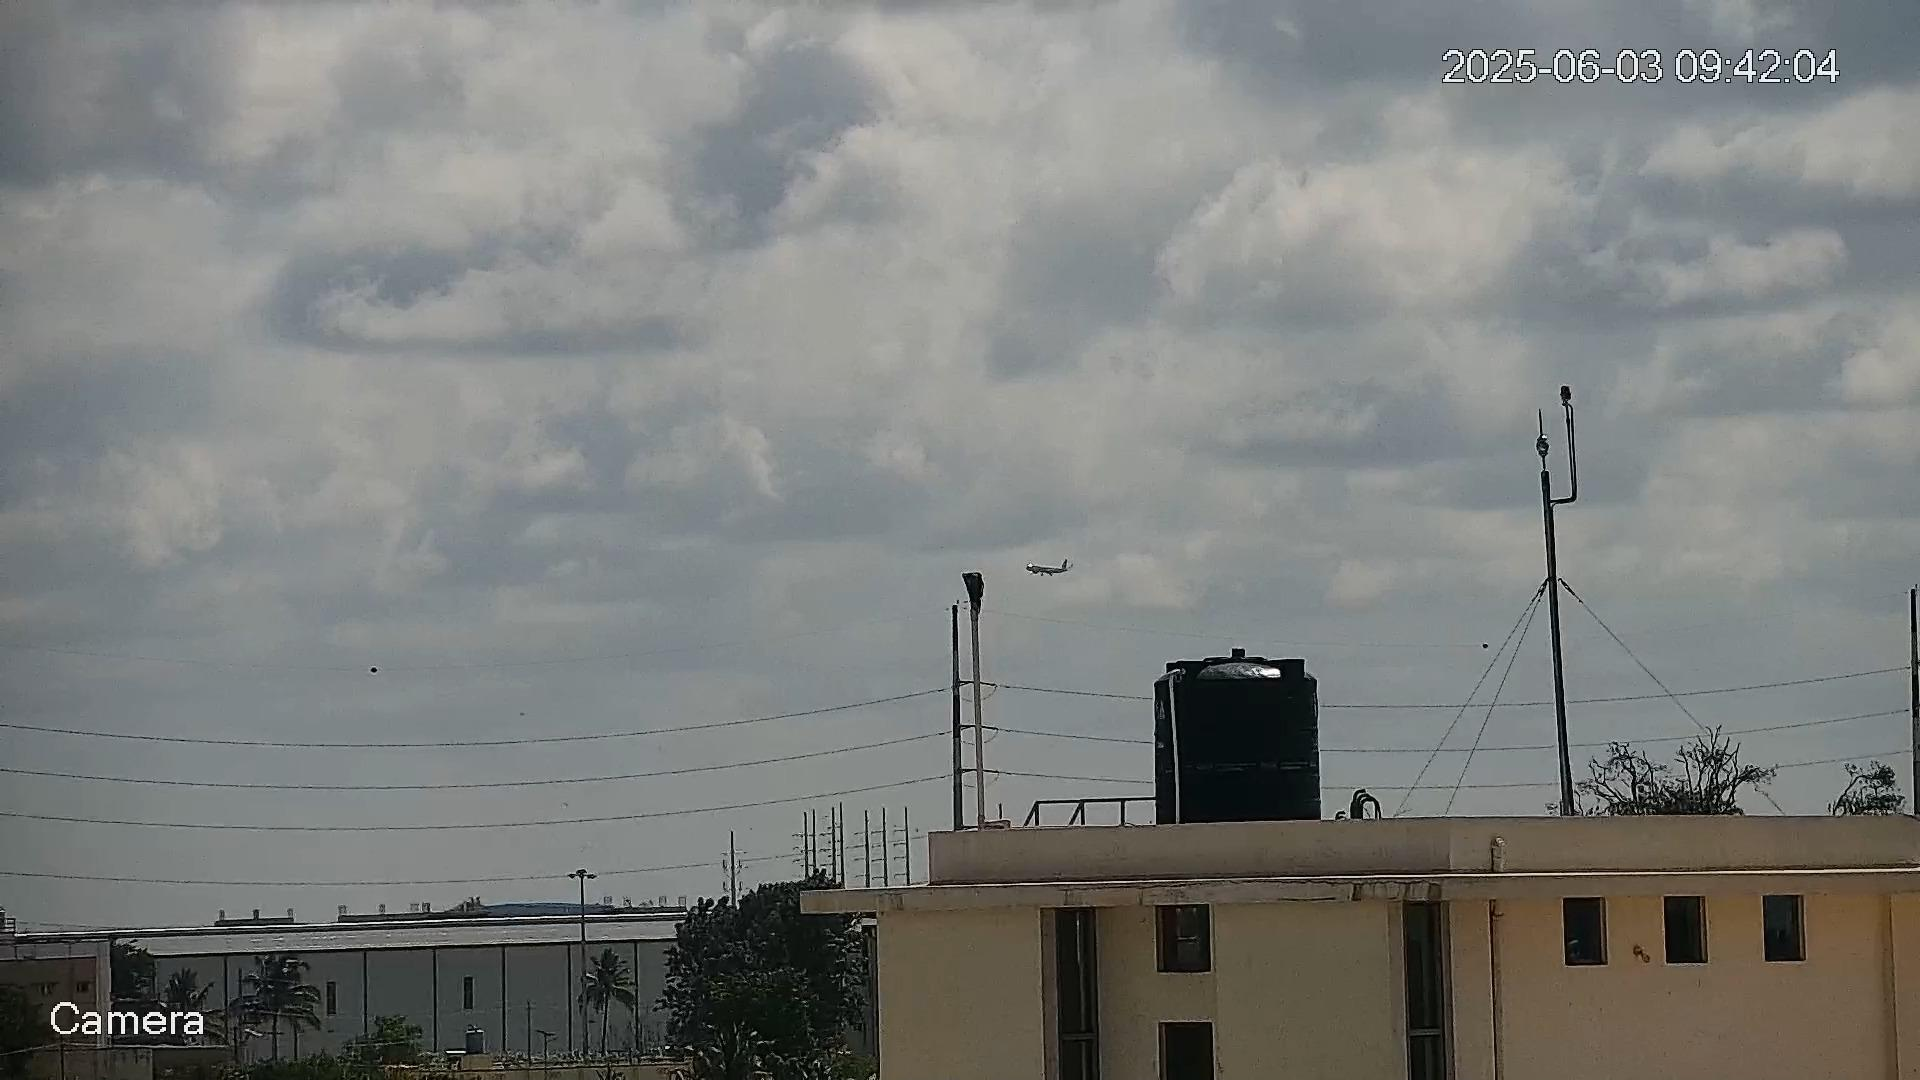Aircraft: (1025, 558, 1073, 576)
